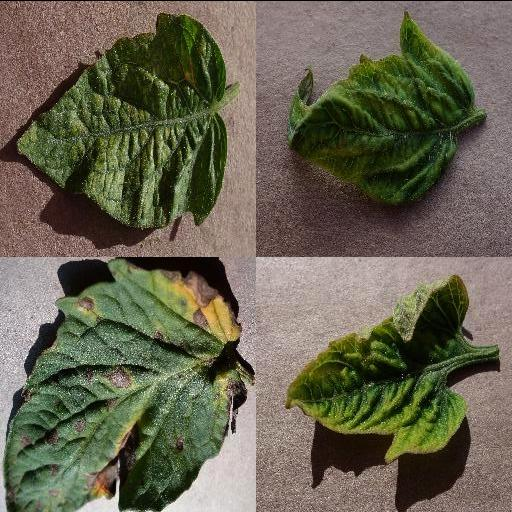Early Blight: (4, 257, 244, 512)
Spider Mites: (15, 13, 227, 227)
Yellow Leaf Curl Virus: (287, 9, 475, 201), (283, 273, 469, 462)
